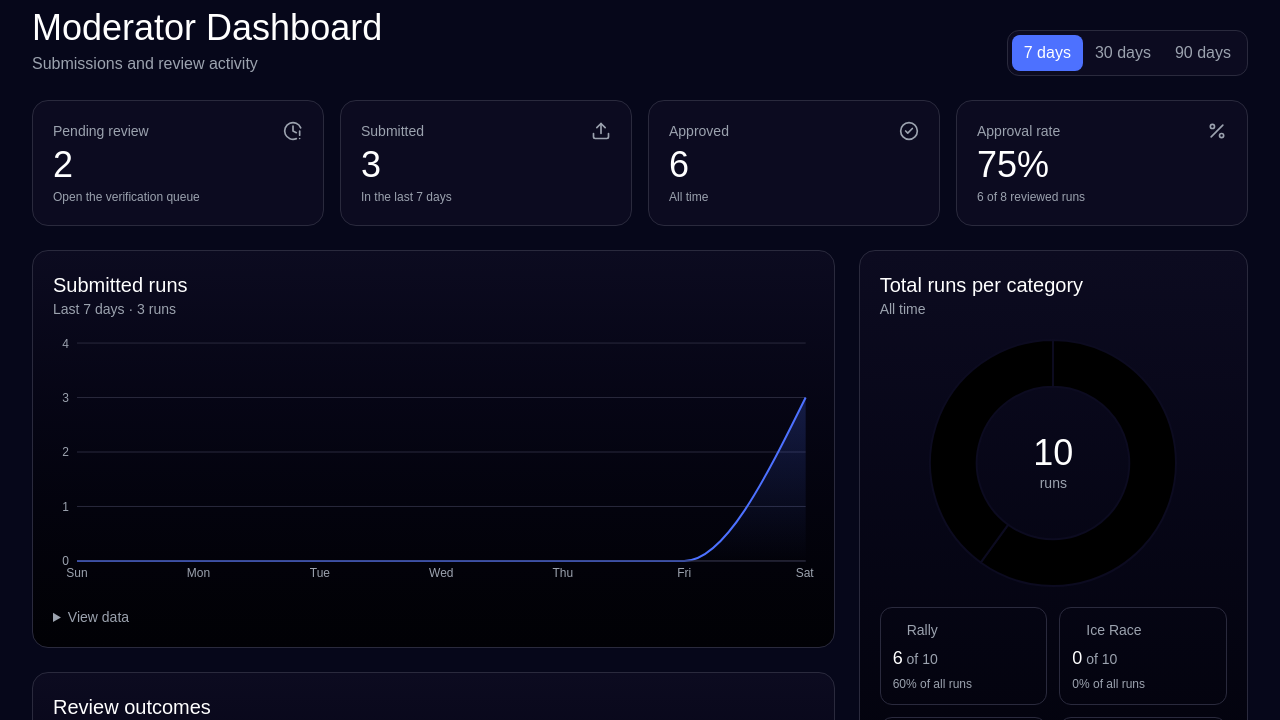
Test case: DashboardPage › switches the period and keeps it in the url
Check: the text "In the last 7 days" is shown, box [361, 190, 452, 204]
Click the radio button labelled "30 days" at (1123, 53), box [1083, 35, 1163, 71]
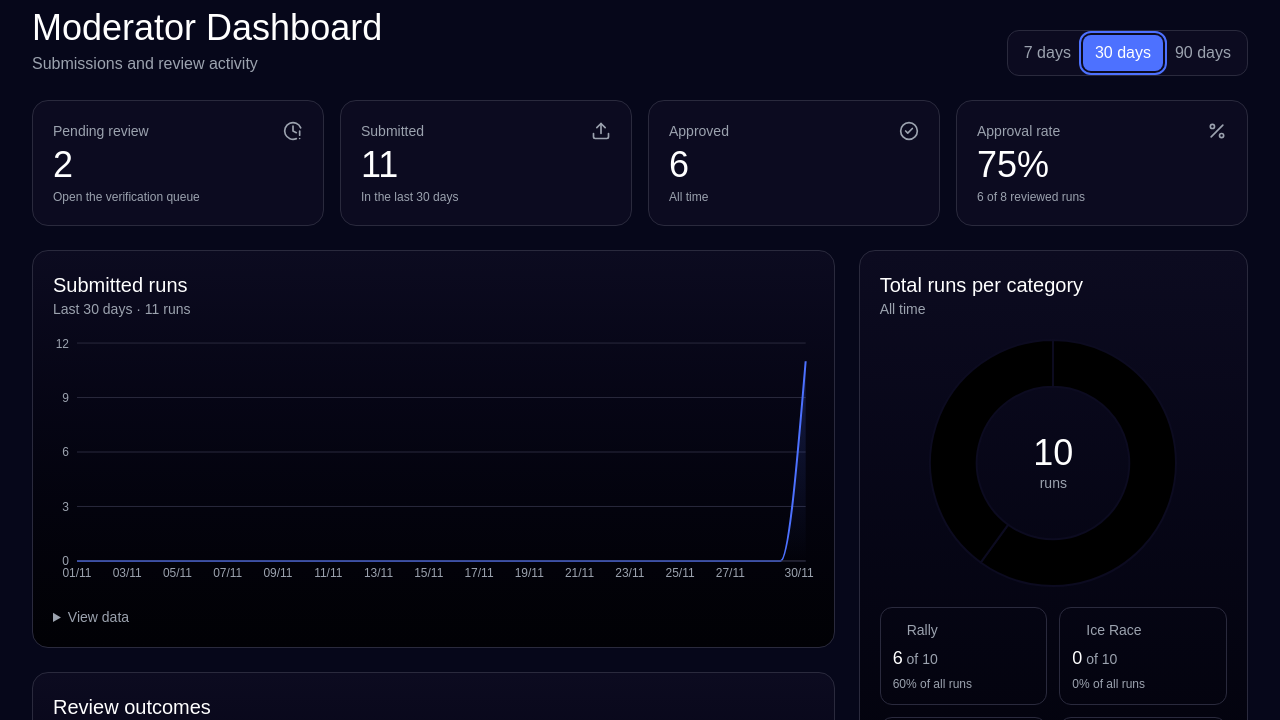
Check: the text "In the last 30 days" is shown, box [361, 190, 458, 204]
Check: the text "Last 30 days · 11 runs" is shown, box [53, 301, 190, 317]
